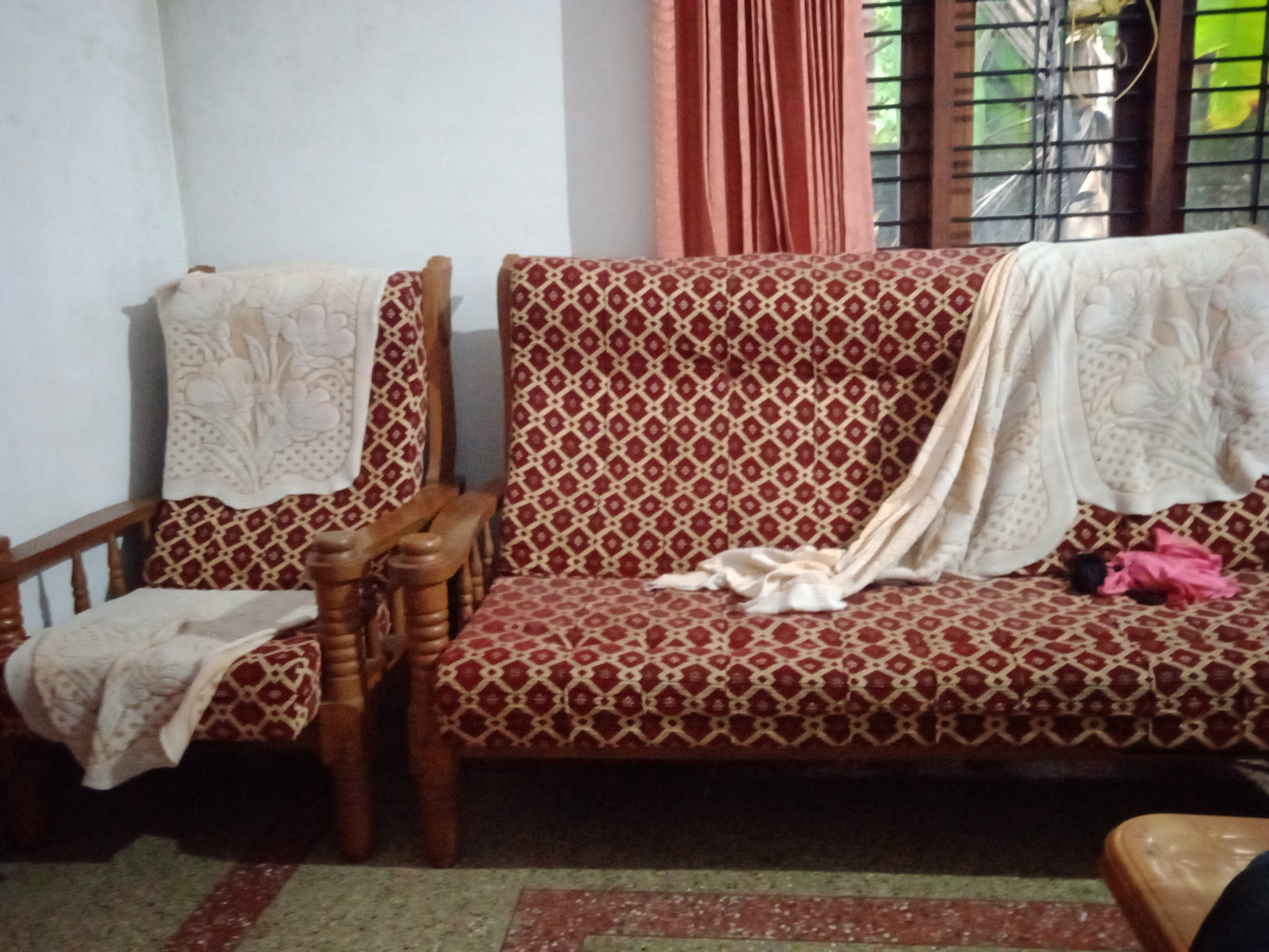sofa: (392, 228, 1269, 852), (0, 250, 455, 861)
